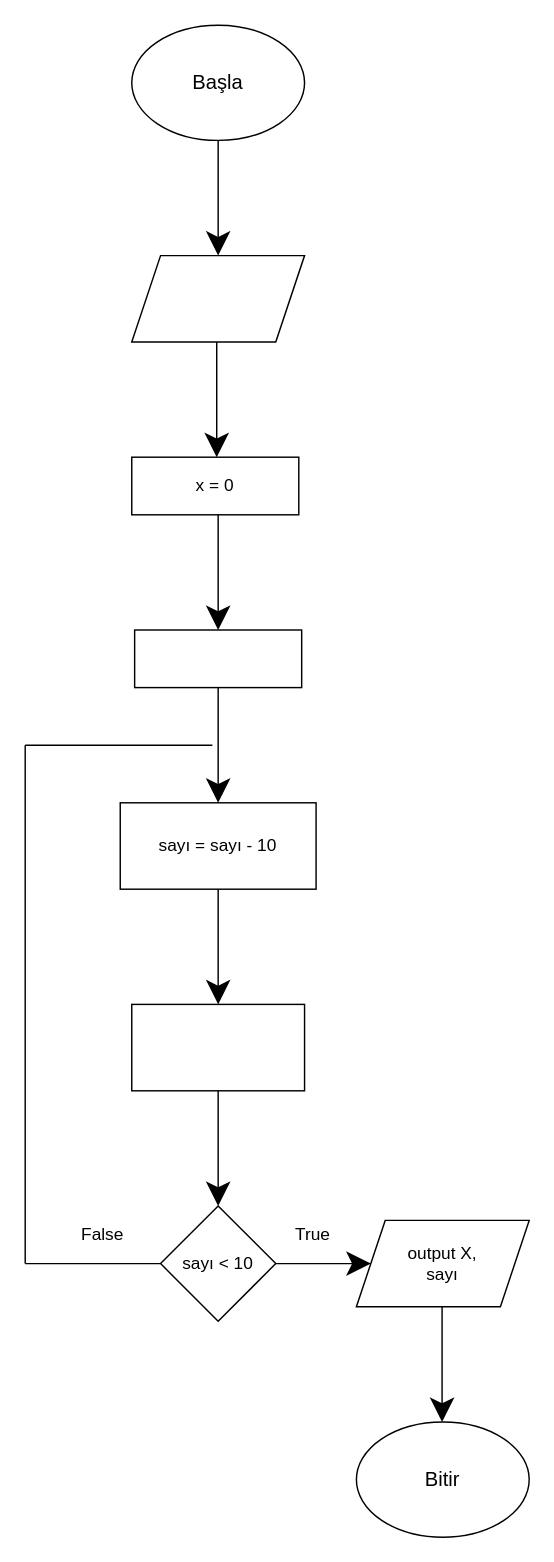
This 554x1562 diagram has some shape labels left out. Each missing label, with the box of its shape:
input sayı: (130, 254, 305, 342)
T = sayı: (133, 629, 302, 688)
x = x + 1: (130, 1003, 305, 1091)
